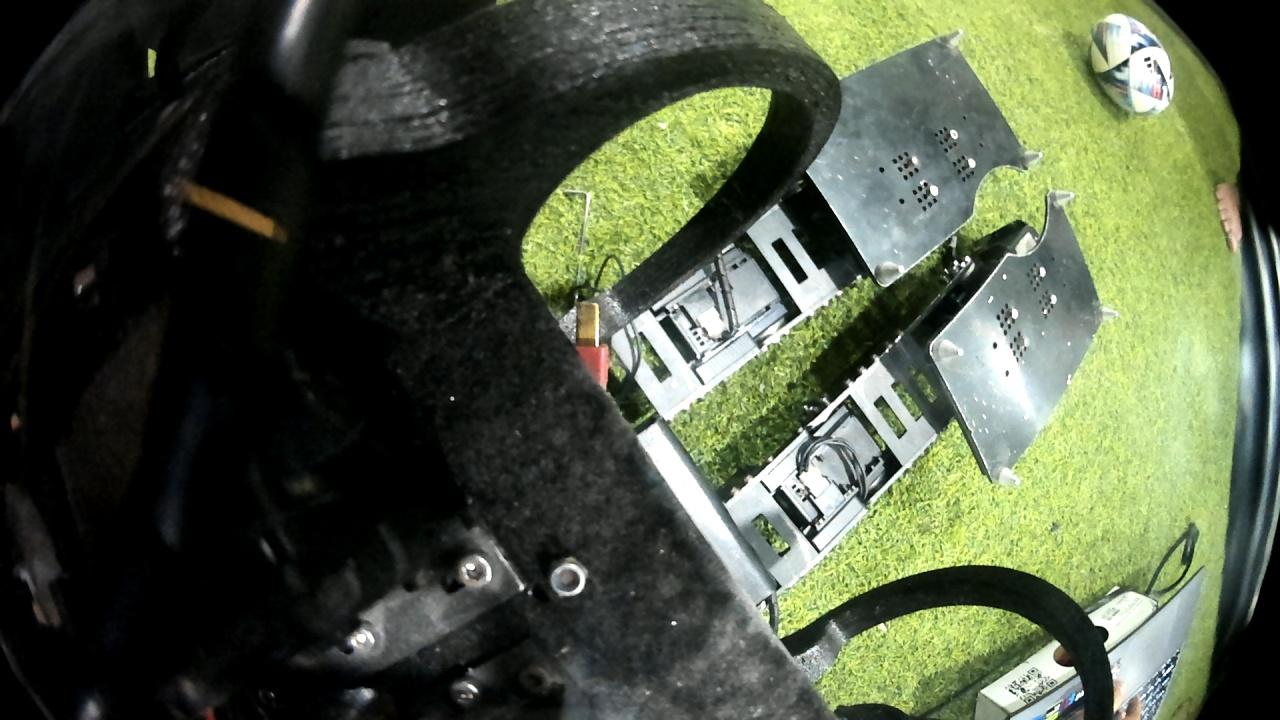ball: (1079, 8, 1179, 117)
